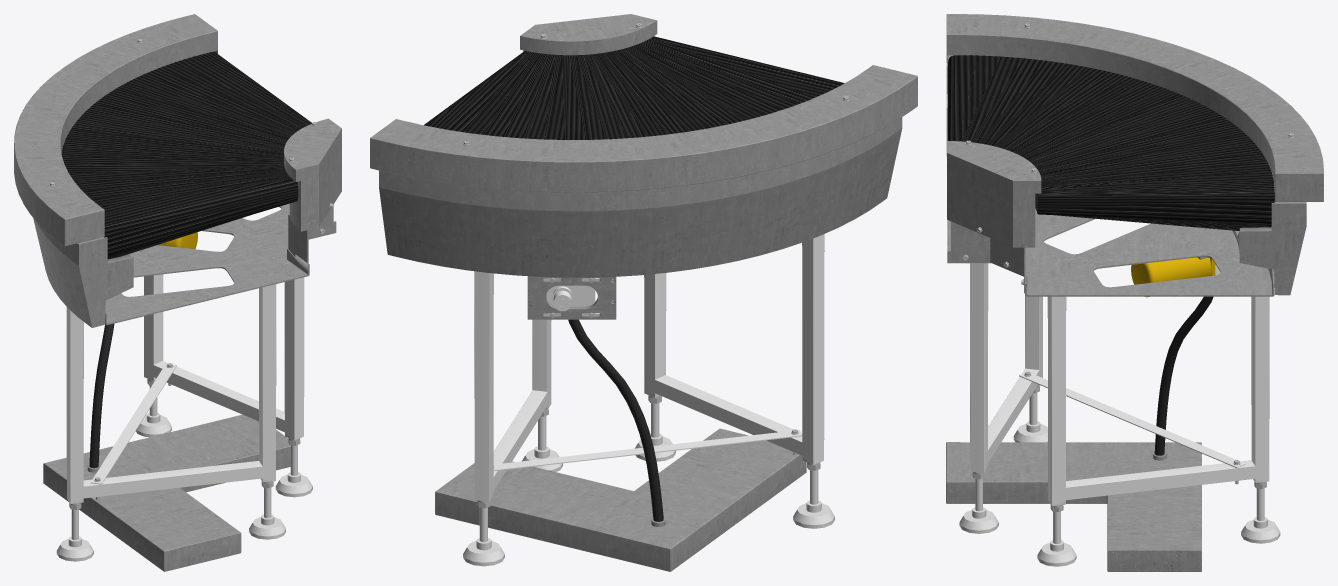
3 views of the same model, side by side, from view 1: azimuth 30°, elevation 25°; view 2: azimuth 150°, elevation 25°; view 3: azimuth 270°, elevation 25° (orthographic). The views are drawn at different scales.
Parts seen in each view (by area): view 1: 03_belt, 03_rail, 03_frame, 03_cablebox, 03_sus, 03_leg, 03_cable, 03_bolt; view 2: 03_rail, 03_belt, 03_cablebox, 03_frame, 03_leg, 03_sus, 03_cable, 03_moter_base; view 3: 03_belt, 03_rail, 03_frame, 03_cablebox, 03_sus, 03_leg, 03_moter, 03_cable, 03_bolt.
Boxes of the visible parts, box(x1,y1,x2,y2) form: 03_belt: box(61, 52, 311, 259); 03_rail: box(14, 14, 341, 327); 03_frame: box(66, 274, 304, 503); 03_cablebox: box(43, 414, 290, 571); 03_sus: box(105, 203, 336, 325); 03_leg: box(56, 385, 312, 561); 03_cable: box(89, 323, 114, 468); 03_bolt: box(49, 39, 333, 509); 03_rail: box(370, 14, 917, 277); 03_belt: box(424, 36, 844, 139); 03_cablebox: box(435, 428, 806, 571); 03_frame: box(474, 234, 824, 501); 03_leg: box(463, 403, 834, 566); 03_sus: box(527, 276, 616, 319); 03_cable: box(568, 319, 663, 521); 03_moter_base: box(548, 278, 595, 313); 03_belt: box(948, 55, 1274, 230); 03_rail: box(946, 14, 1323, 295); 03_frame: box(970, 263, 1269, 506); 03_cablebox: box(946, 442, 1201, 571); 03_sus: box(947, 208, 1274, 296); 03_leg: box(959, 393, 1280, 566); 03_moter: box(1131, 257, 1215, 297); 03_cable: box(1154, 296, 1213, 455); 03_bolt: box(962, 23, 1294, 512).
Size of the model in its own units: 0.768 by 0.9021 by 0.7692.
Materials: 7 (2 with a texture image).
